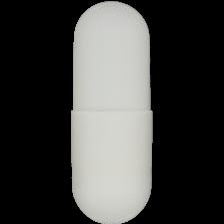59762-5026: (0, 0, 224, 224)
